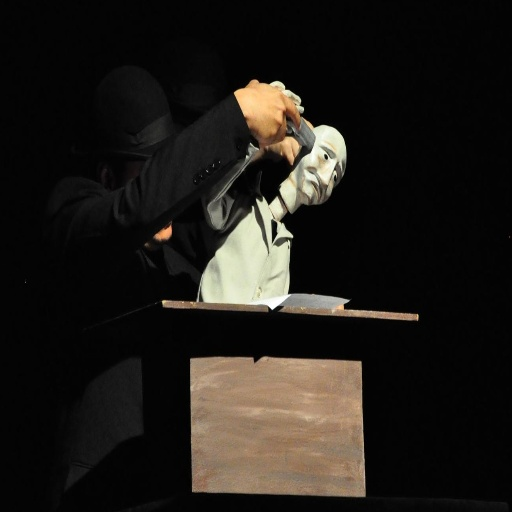hand: (234, 71, 305, 150), (257, 113, 313, 164), (268, 79, 305, 117)
